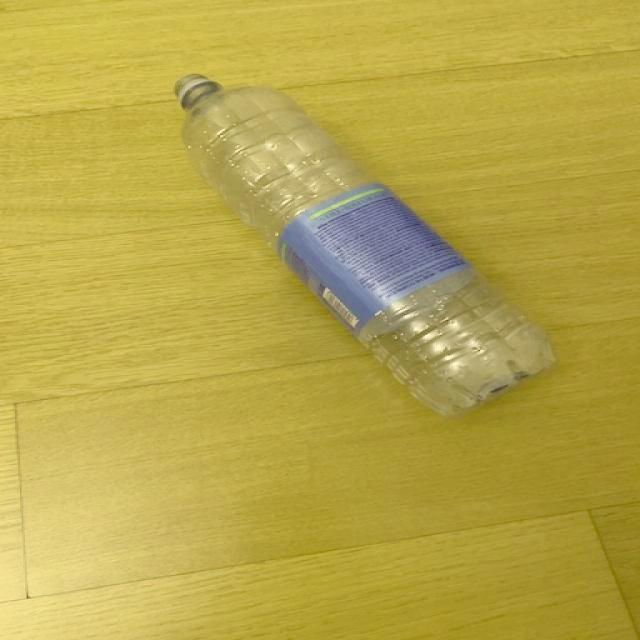bottle: (174, 73, 558, 419)
